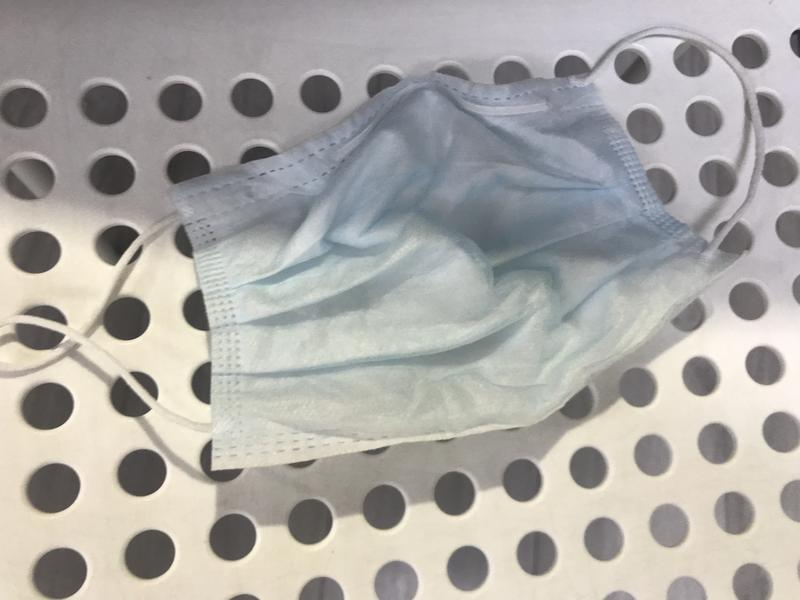medical_mask: (1, 24, 766, 471)
